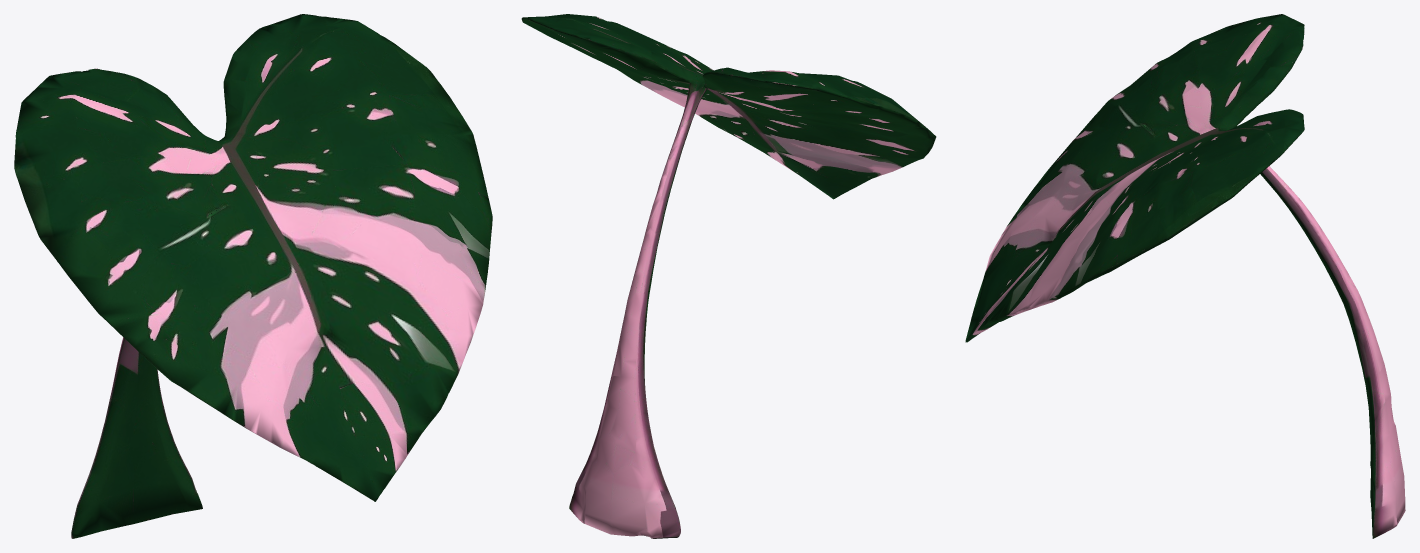
Rendered from pp_leaf_mature_pinkmarble.glb.
3 views of the same model, side by side, from view 1: azimuth 30°, elevation 25°; view 2: azimuth 150°, elevation 25°; view 3: azimuth 270°, elevation 25° (orthographic). The views are drawn at different scales.
Bounding box in the file's own units: 1.68 × 1.9 × 1.74.
Materials: 1 (1 with a texture image).
